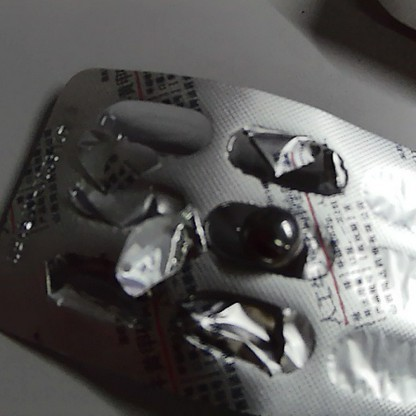ironball: (234, 203, 310, 264)
